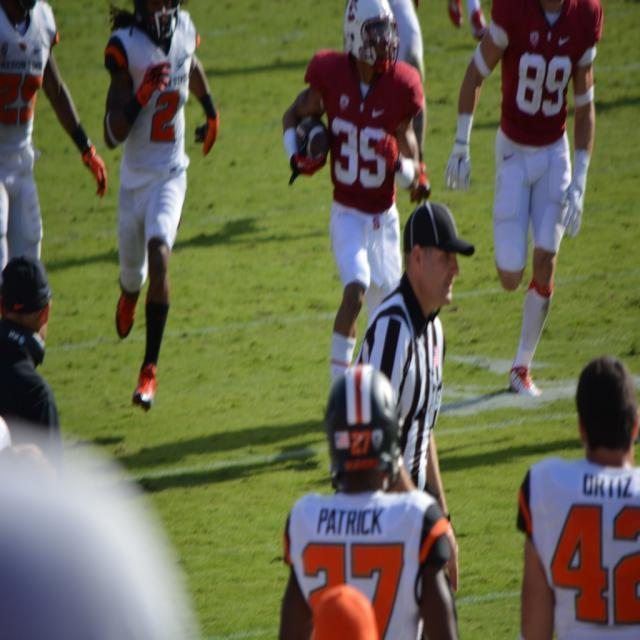ball: (296, 115, 331, 166)
